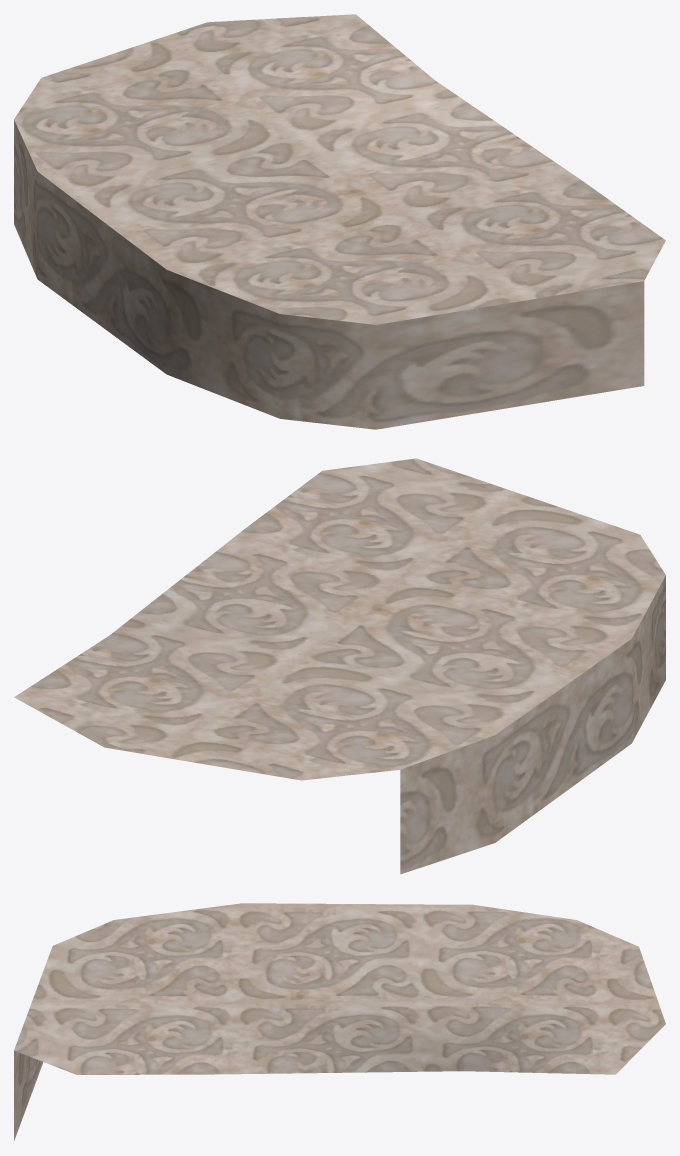
File: EKH_GROTTO_PS_GR_OBJECT07.fbx
3 views of the same model, one above another, from view 1: azimuth 30°, elevation 25°; view 2: azimuth 150°, elevation 25°; view 3: azimuth 270°, elevation 25° (orthographic). The views are drawn at different scales.
Visible parts, largest first — view 1: EKH_GROTTO_PS_GR_OBJECT07; view 2: EKH_GROTTO_PS_GR_OBJECT07; view 3: EKH_GROTTO_PS_GR_OBJECT07.
Boxes of the visible parts, x1,y1,x2,y2 form: EKH_GROTTO_PS_GR_OBJECT07: (14,14,665,429); EKH_GROTTO_PS_GR_OBJECT07: (14,458,665,874); EKH_GROTTO_PS_GR_OBJECT07: (14,903,665,1140).
Size of the model in its own units: 40679 by 10369 by 65224.
2 materials, 2 textured.
